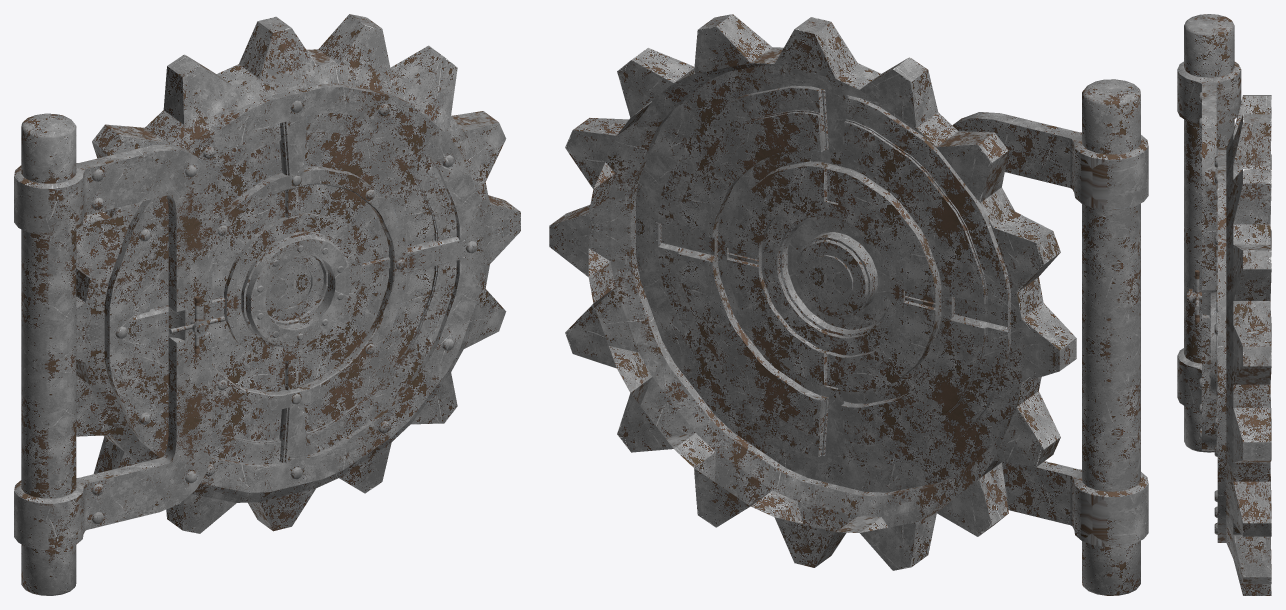
The model's file is CF_Vault.fbx.
3 renders of one model, left to right at view 1: azimuth 30°, elevation 25°; view 2: azimuth 150°, elevation 25°; view 3: azimuth 270°, elevation 25°, orthographic. The views are drawn at different scales.
Visible parts, largest first — view 1: CF_Vault; view 2: CF_Vault; view 3: CF_Vault.
Part boxes in pixels (x1,y1,x2,y2): CF_Vault: (14, 14, 520, 595); CF_Vault: (549, 14, 1148, 595); CF_Vault: (1177, 14, 1271, 595).
Bounding box in the file's own units: 430 × 394 × 74.08.
